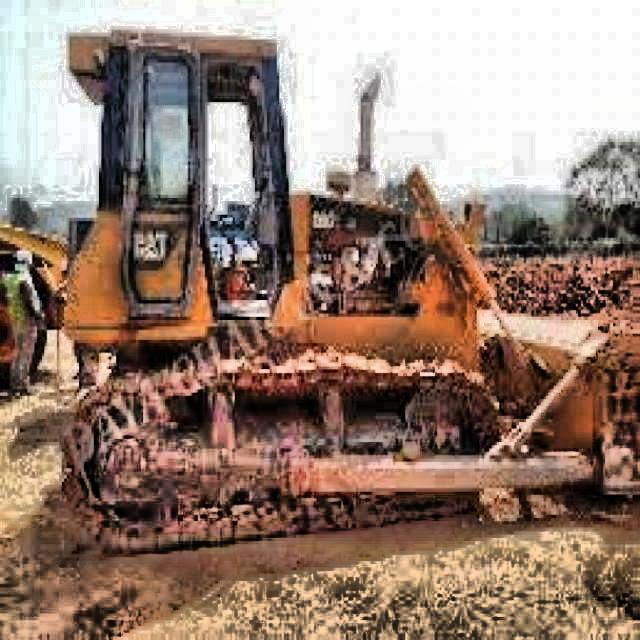bull_dozer/loader/grader: (57, 24, 640, 558)
person: (6, 248, 46, 396), (28, 253, 64, 375), (0, 250, 15, 404), (223, 244, 260, 300)
